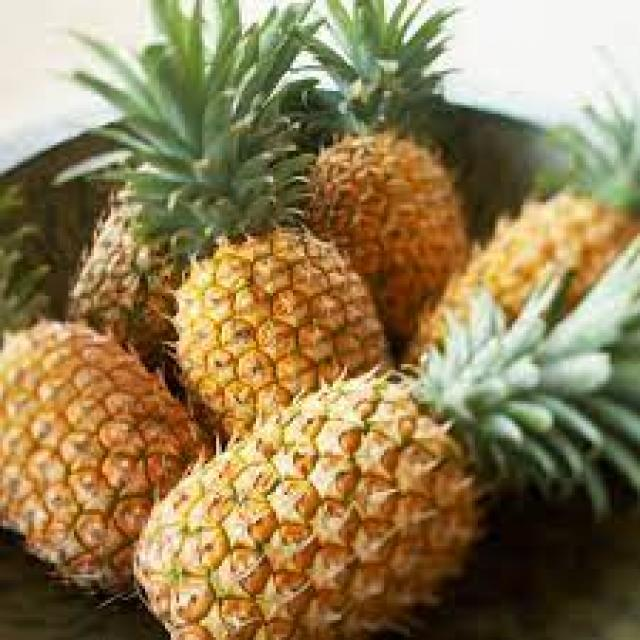pineapple: (139, 333, 640, 640), (91, 23, 390, 424), (3, 182, 202, 600), (415, 91, 640, 378), (307, 3, 467, 327), (68, 117, 194, 344)
